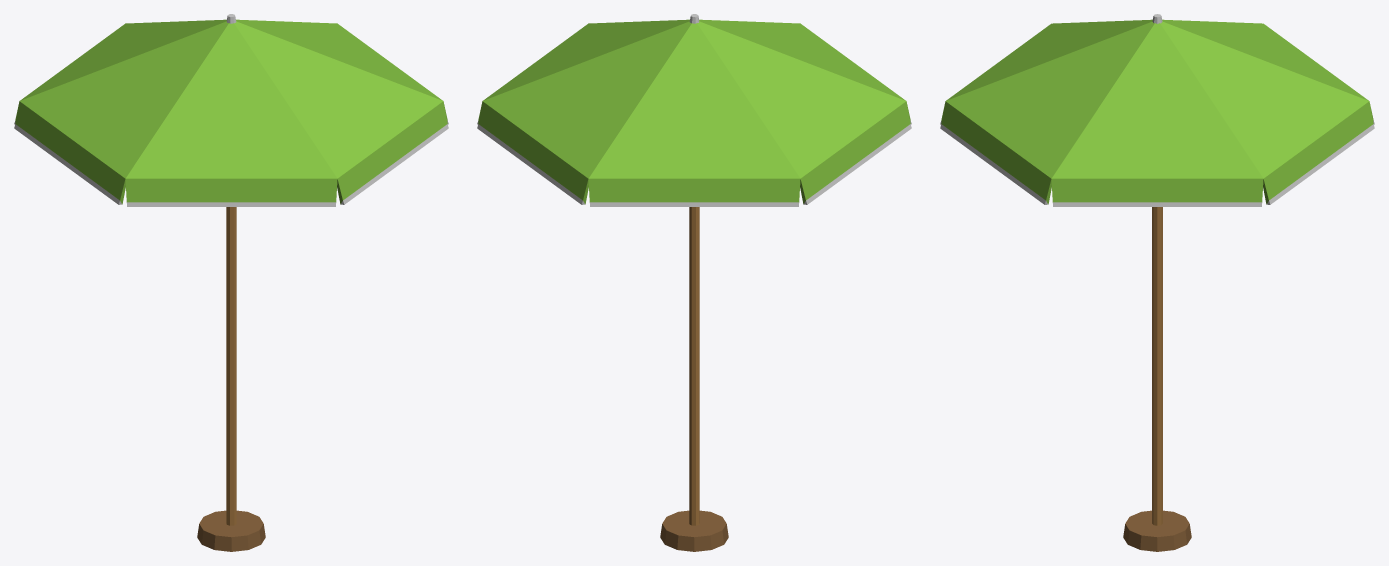
The model's file is parasol.fbx.
3 views of the same model, side by side, from view 1: azimuth 30°, elevation 25°; view 2: azimuth 150°, elevation 25°; view 3: azimuth 270°, elevation 25° (orthographic).
Parts seen in each view (by area): view 1: parasol; view 2: parasol; view 3: parasol.
Boxes of the visible parts, bbox=[...] form: parasol: bbox=[14, 14, 448, 551]; parasol: bbox=[477, 14, 911, 551]; parasol: bbox=[940, 14, 1374, 551].
Size of the model in its own units: 141 by 213 by 161.
